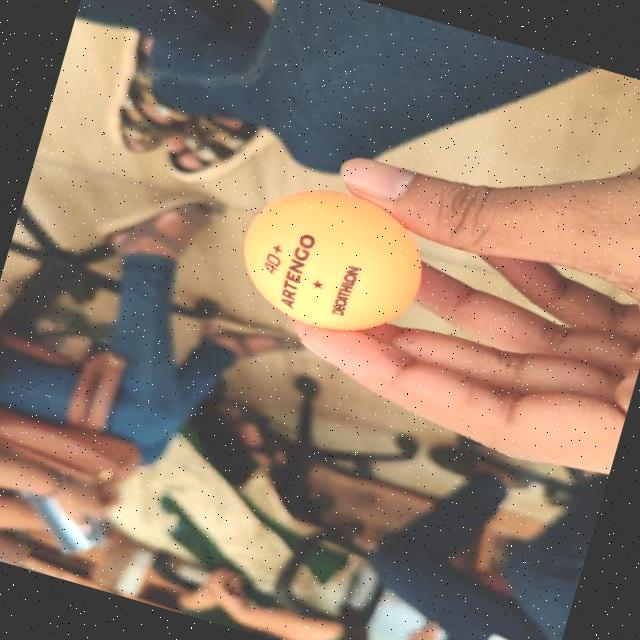ping-pong-ball: (226, 172, 437, 349)
